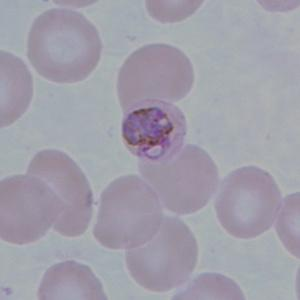Infected: (120, 98, 186, 160)
Uninfected: (27, 147, 93, 237), (26, 7, 100, 81), (142, 143, 219, 213), (124, 217, 198, 289), (92, 173, 162, 247), (117, 42, 193, 107), (216, 167, 281, 238), (0, 175, 64, 242)
